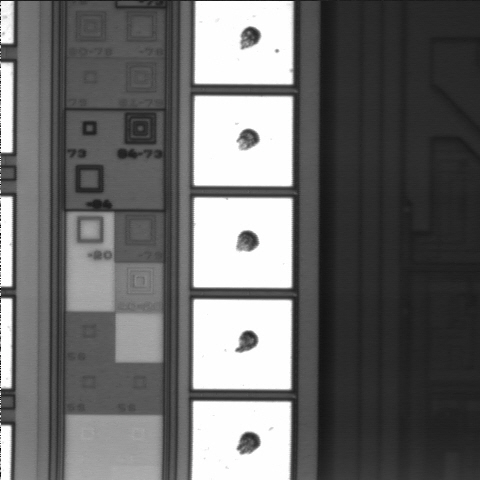pad: (193, 299, 292, 389), (194, 96, 292, 186), (194, 198, 292, 288)
